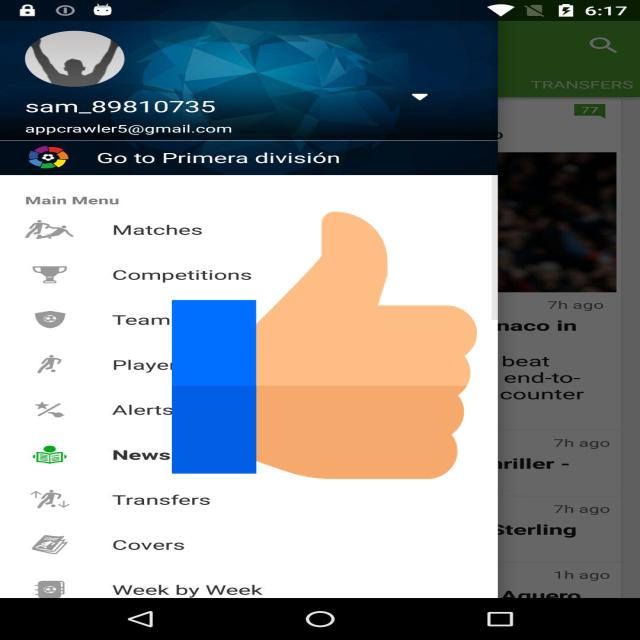privacy zuckering: (172, 205, 477, 486)
